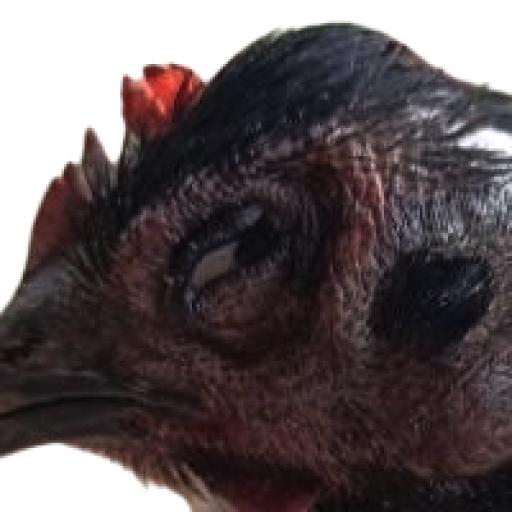disease: (152, 169, 326, 355)
